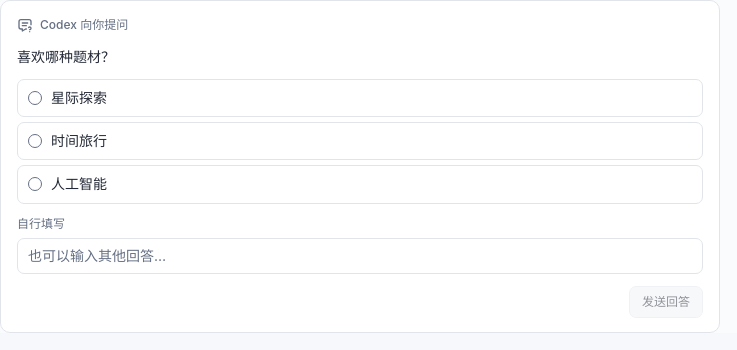
Test case: keeps a selected choice out of the free-form field and sends a typed alternative
Click the radio button labelled "时间旅行" at (35,141), box [28,134,42,148]
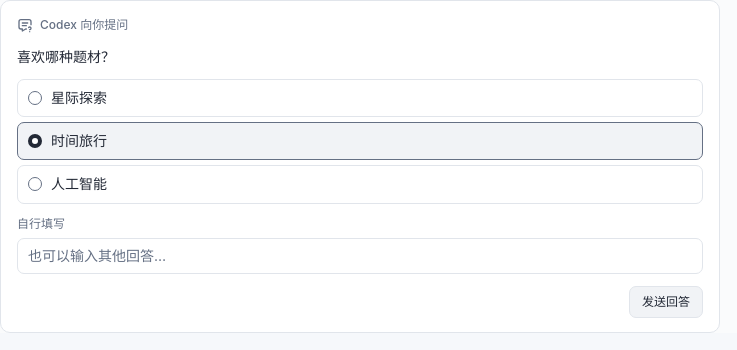
Type "历史悬疑" into the field named "喜欢哪种题材？ 自行填写" at (360,256), box [17,238,703,274]
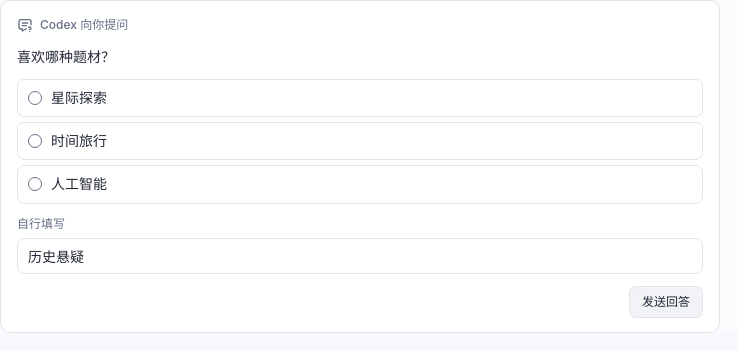
Expected: the radio button labelled "时间旅行" is not checked, [28,134,42,148]
Click the button "发送回答" at (666,302), box [629,286,703,318]
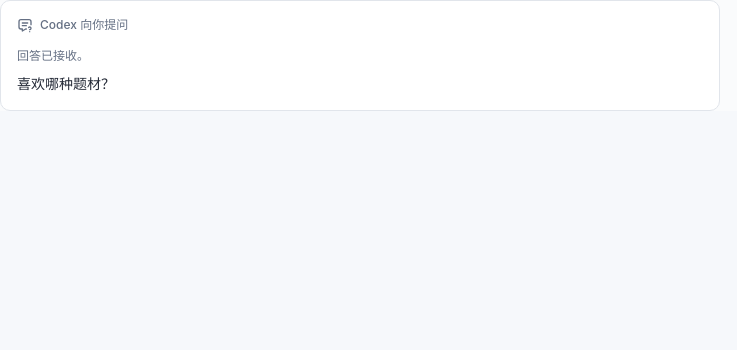
Expected: the text "回答已接收。" is shown, [17,48,89,63]
